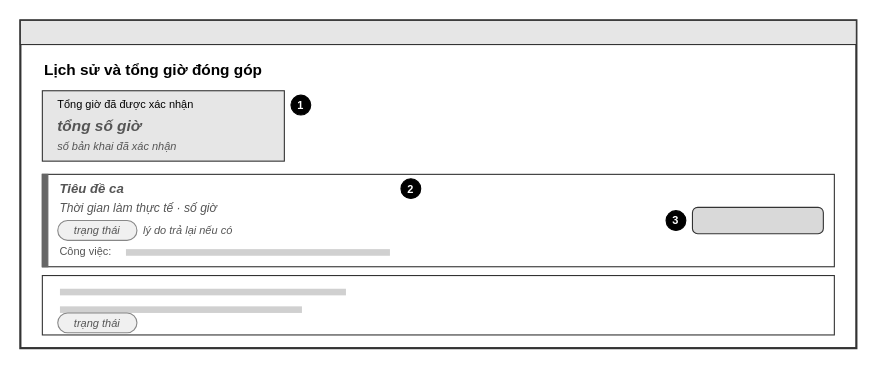
This 876x367 diagram has some shape labels left out. Here are the shapes that lost their labels. From the top down, the box of each, then its label:
(19, 19, 856, 45): Đầu trang và thanh mục (Hình 6.2)
(691, 206, 823, 234): Bổ sung bản khai
